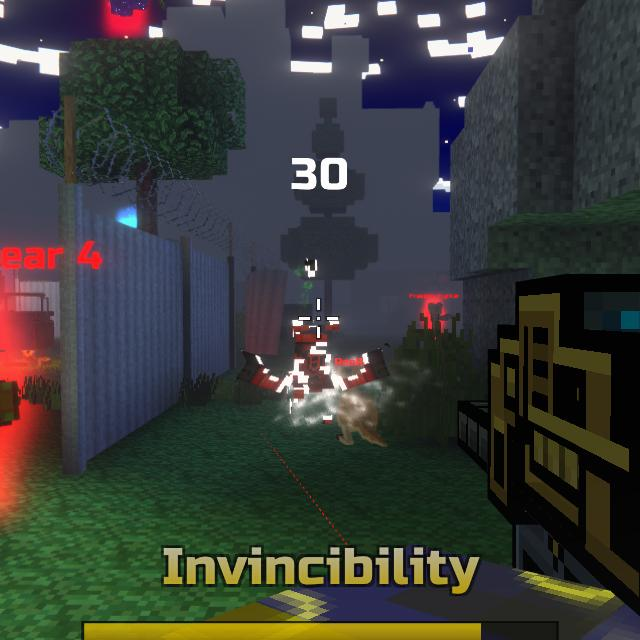Enemy: (422, 302, 445, 331)
